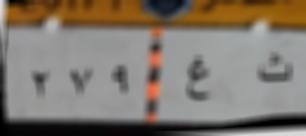2: (27, 68, 54, 100)
7: (68, 62, 94, 97)
9: (110, 62, 132, 100)
ghayn: (185, 50, 213, 106)
thaa: (254, 48, 300, 88)
